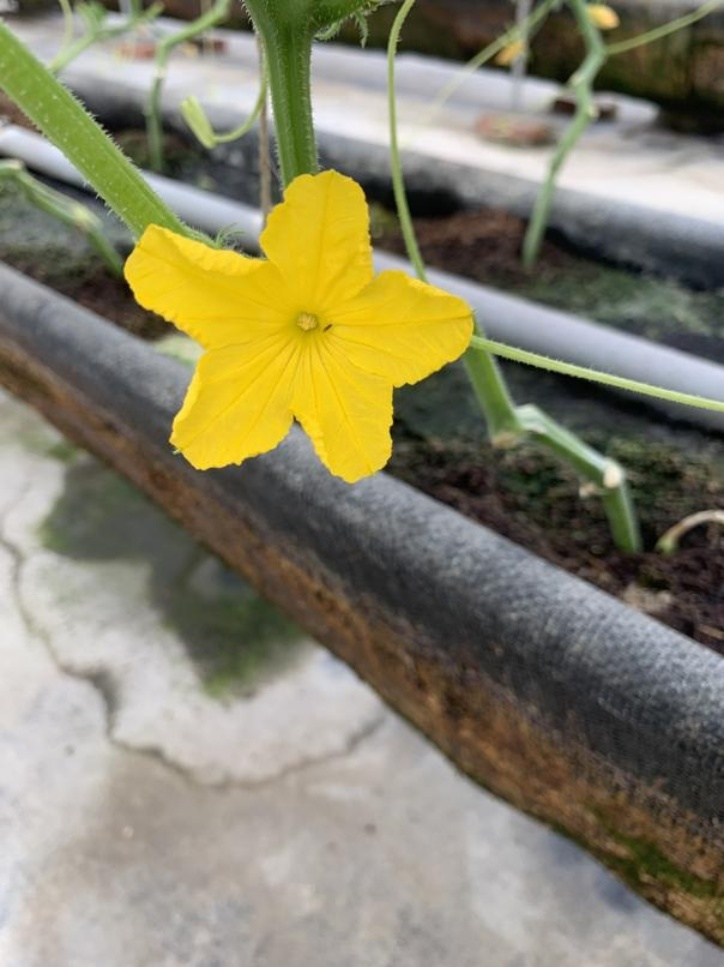flowering: (119, 168, 481, 493)
